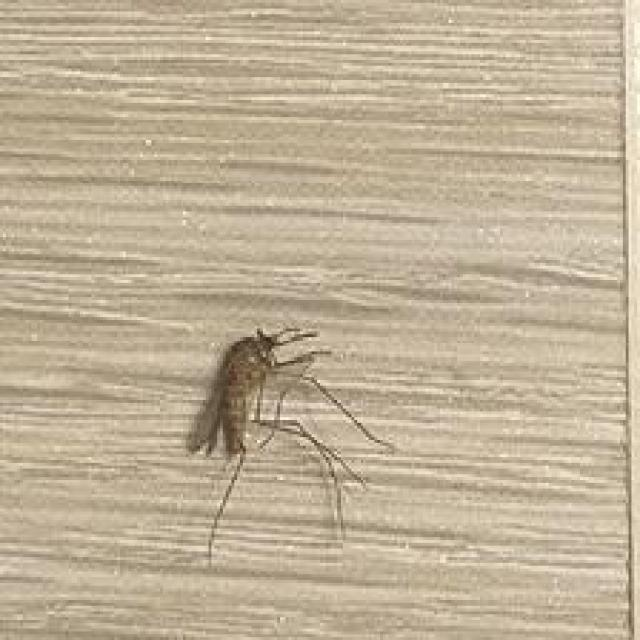Culex: (183, 323, 397, 566)
